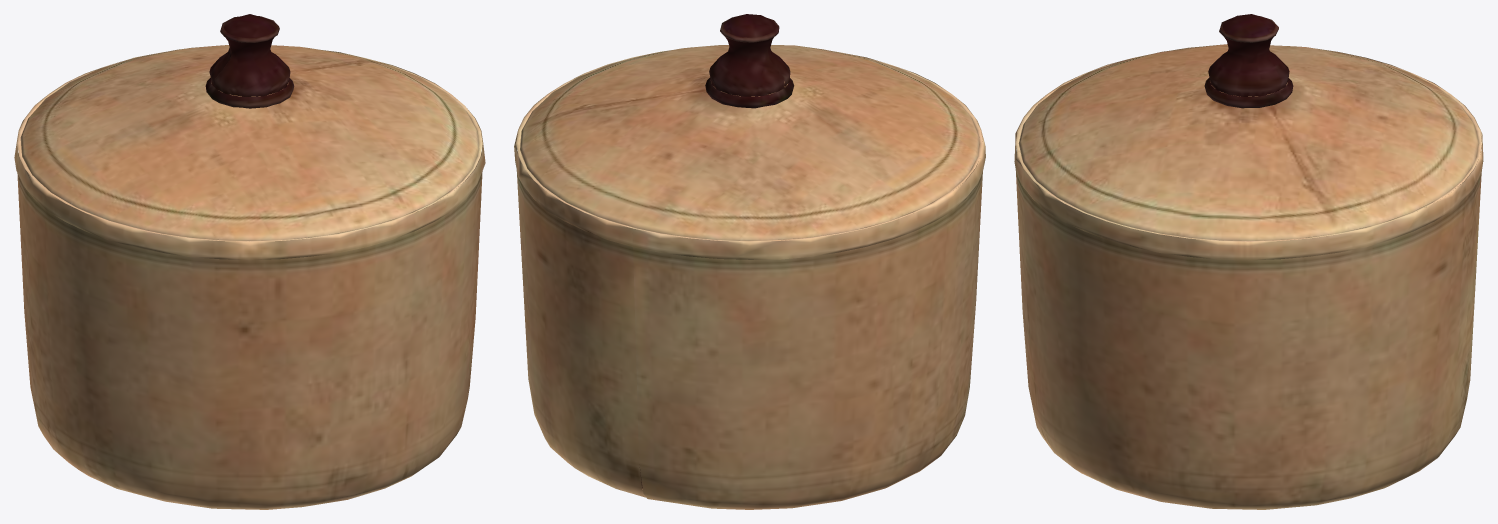
The model's file is brass_pot_01.glb.
3 renders of one model, left to right at view 1: azimuth 30°, elevation 25°; view 2: azimuth 150°, elevation 25°; view 3: azimuth 270°, elevation 25°, orthographic.
Visible parts, largest first — view 1: brass_pot_01; view 2: brass_pot_01; view 3: brass_pot_01.
Boxes of the visible parts, bbox=[...] form: brass_pot_01: bbox=[14, 14, 485, 509]; brass_pot_01: bbox=[514, 14, 985, 509]; brass_pot_01: bbox=[1014, 14, 1483, 509].
Bounding box in the file's own units: 0.3011 × 0.2909 × 0.3001.
1 material, 1 textured.
